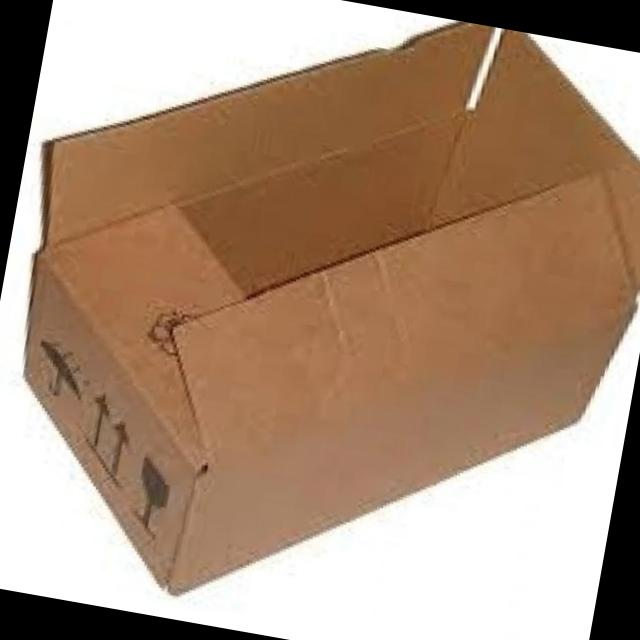cardboard paper: (25, 20, 640, 590)
